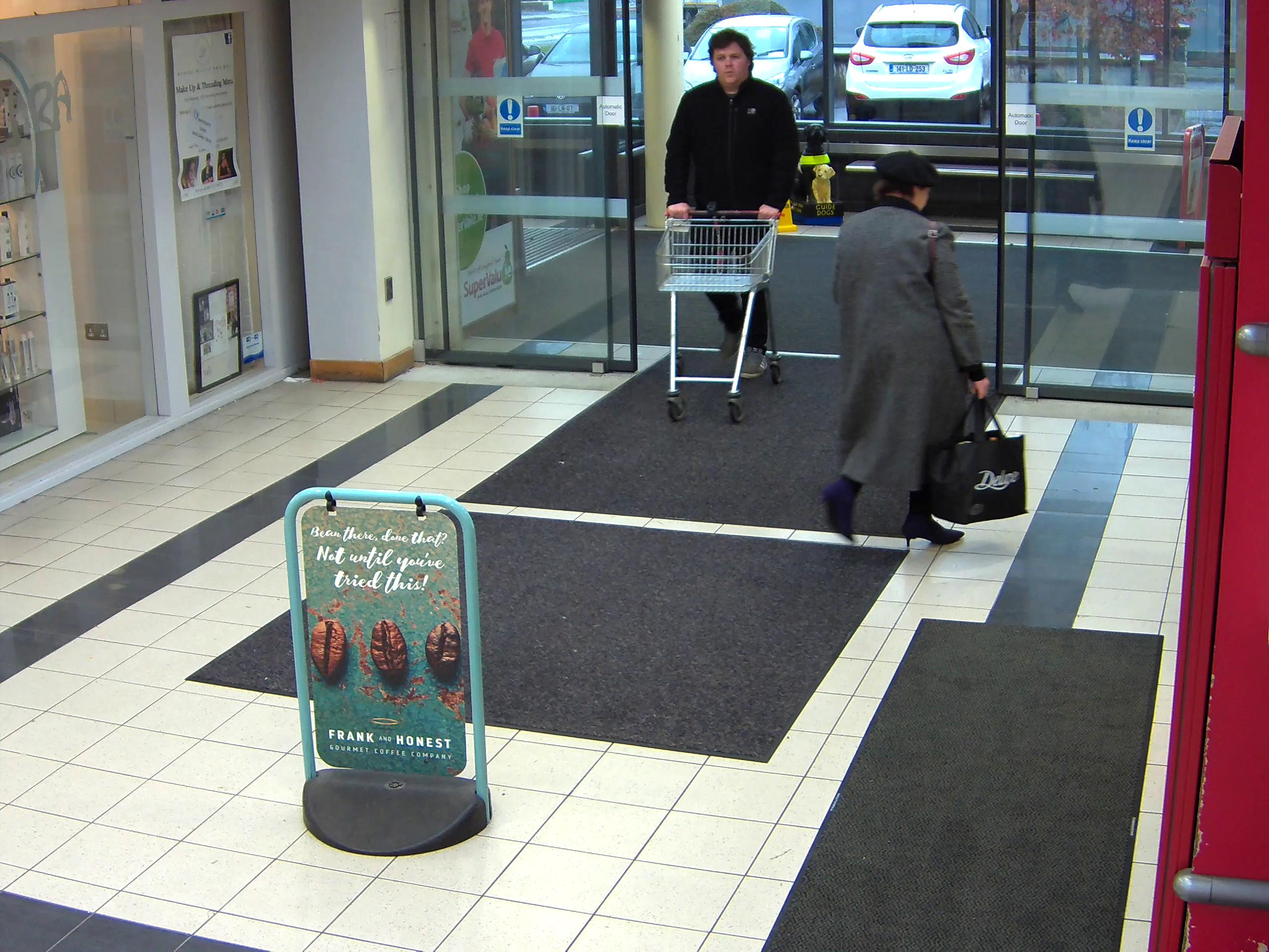empty-trolly: (652, 210, 786, 421)
filled-shopping-bags: (929, 406, 1028, 525)
person: (821, 150, 989, 546), (662, 30, 800, 382)
person-with-empty-basket-trolly: (651, 28, 799, 422)
person-with-filled-shopping-bag-s-: (820, 149, 1026, 546)
